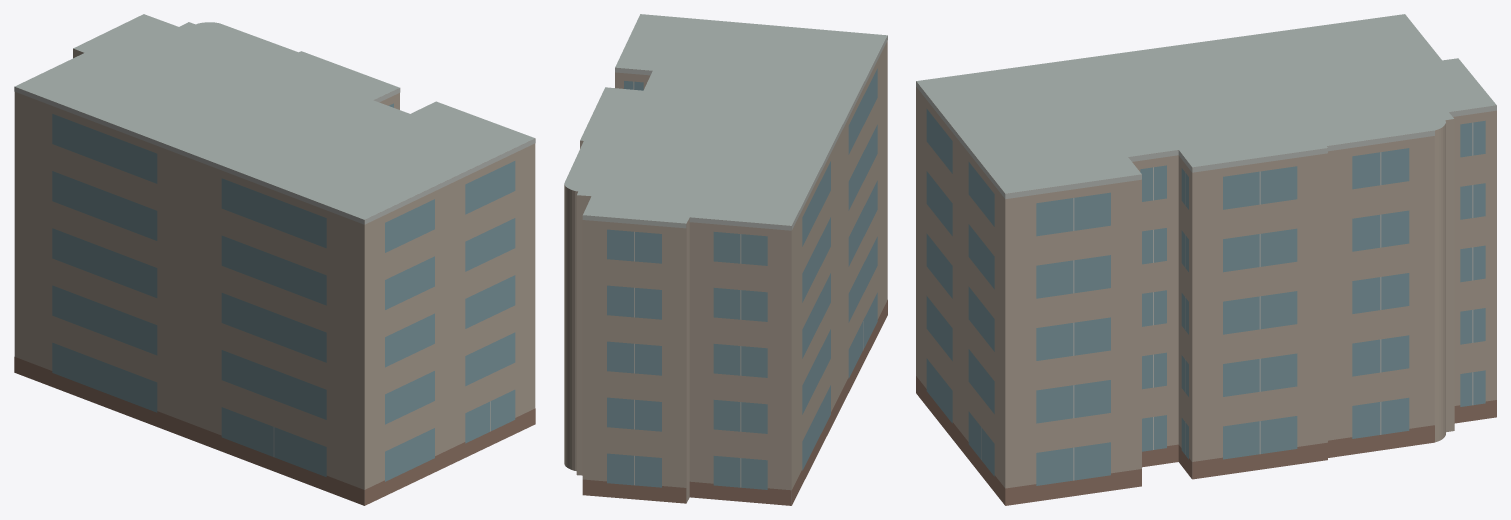
File: survey-upis-32509238.glb
3 views of the same model, side by side, from view 1: azimuth 30°, elevation 25°; view 2: azimuth 150°, elevation 25°; view 3: azimuth 270°, elevation 25° (orthographic). The views are drawn at different scales.
Visible parts, largest first — view 1: survey-upis-32509238.tmp; view 2: survey-upis-32509238.tmp; view 3: survey-upis-32509238.tmp.
Boxes of the visible parts, left/top/right/bottom form: survey-upis-32509238.tmp: left=14, top=14, right=535, bottom=505; survey-upis-32509238.tmp: left=564, top=14, right=887, bottom=505; survey-upis-32509238.tmp: left=916, top=14, right=1496, bottom=505.
Bounding box in the file's own units: 17.56 × 14.2 × 23.96.
